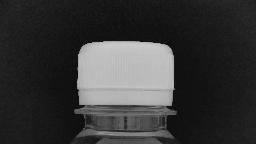Good Cap: (68, 36, 182, 120)
